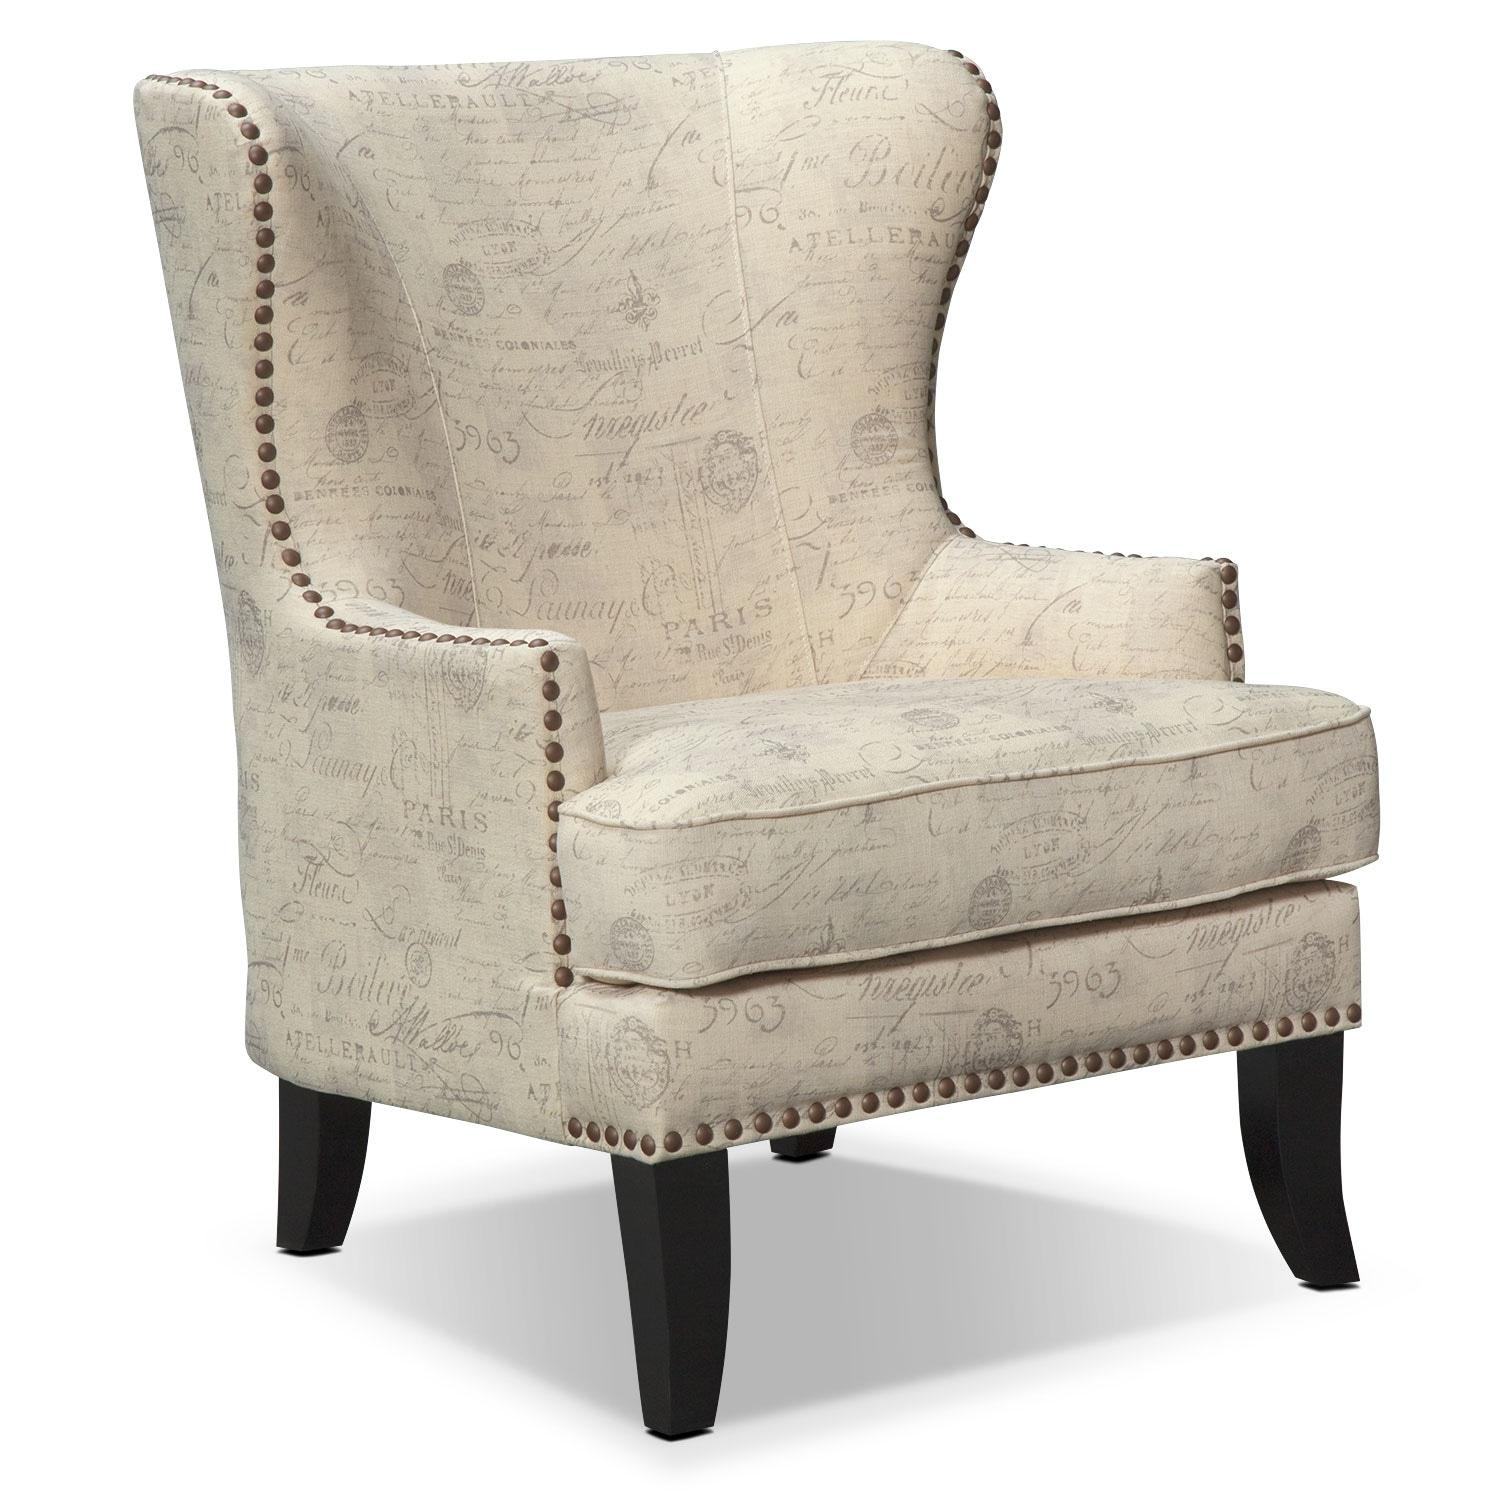chair: (117, 29, 1418, 1459)
